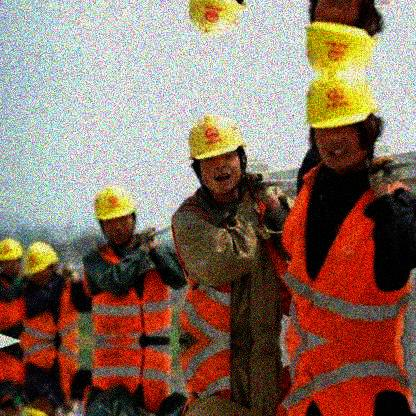helmet: (306, 76, 380, 172), (305, 1, 381, 76), (188, 113, 248, 201), (96, 186, 139, 248), (26, 241, 62, 291), (1, 238, 23, 278)
